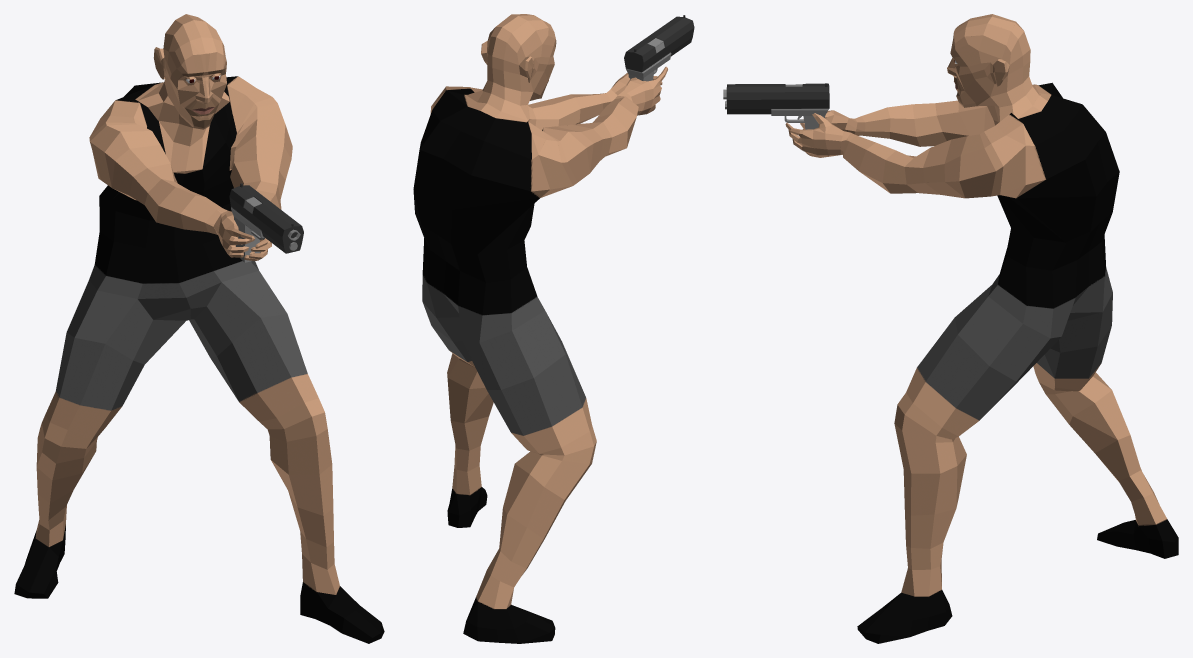
The model's file is PlayerShoot(1).obj.
3 views of the same model, side by side, from view 1: azimuth 30°, elevation 25°; view 2: azimuth 150°, elevation 25°; view 3: azimuth 270°, elevation 25° (orthographic). The views are drawn at different scales.
Visible parts, largest first — view 1: Plane002, Box003; view 2: Plane002, Box003; view 3: Plane002, Box003.
Part boxes in pixels (x1,y1,x2,y2): Plane002: (14,14,384,643); Box003: (229,183,303,262); Plane002: (413,14,667,643); Box003: (624,15,694,81); Plane002: (785,14,1178,643); Box003: (723,83,829,151).
Bounding box in the file's own units: 716 × 1665 × 1212.
